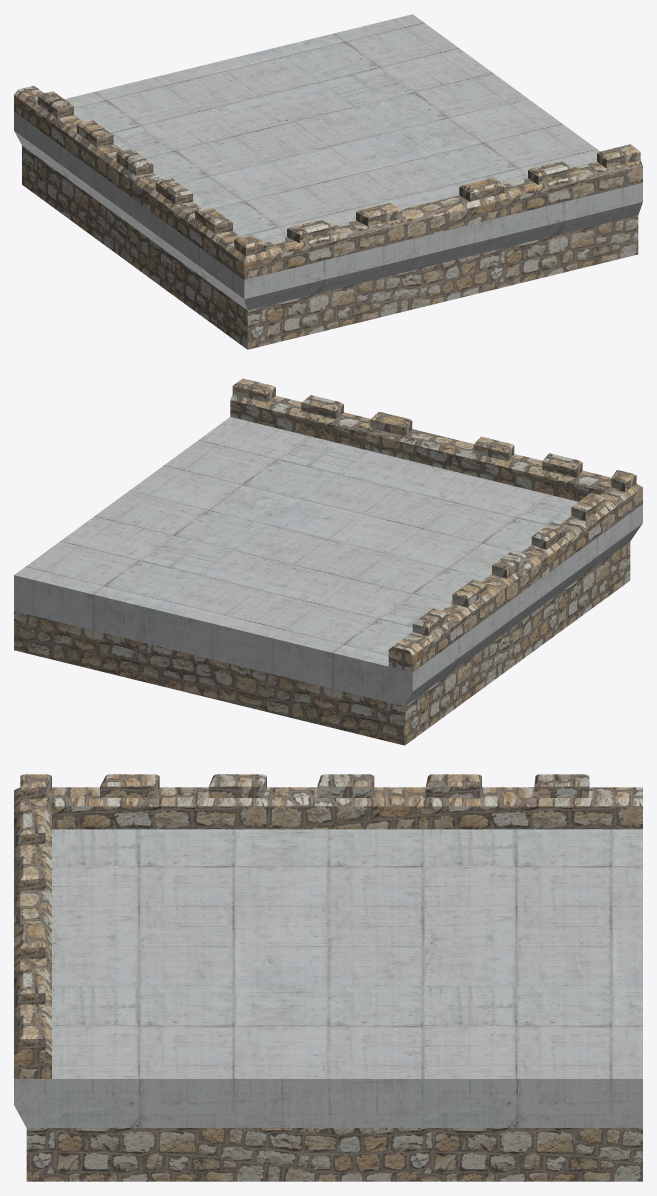
The model's file is Platform_L_Path.fbx.
3 views of the same model, one above another, from view 1: azimuth 30°, elevation 25°; view 2: azimuth 150°, elevation 25°; view 3: azimuth 270°, elevation 25° (orthographic). The views are drawn at different scales.
Parts seen in each view (by area): view 1: Platform_L_Path; view 2: Platform_L_Path; view 3: Platform_L_Path.
Boxes of the visible parts, <box> form: Platform_L_Path: <box>14,14,642,349</box>; Platform_L_Path: <box>14,378,642,745</box>; Platform_L_Path: <box>14,774,642,1181</box>.
Bounding box in the file's own units: 5 × 1.27 × 5.
2 materials, 2 textured.
